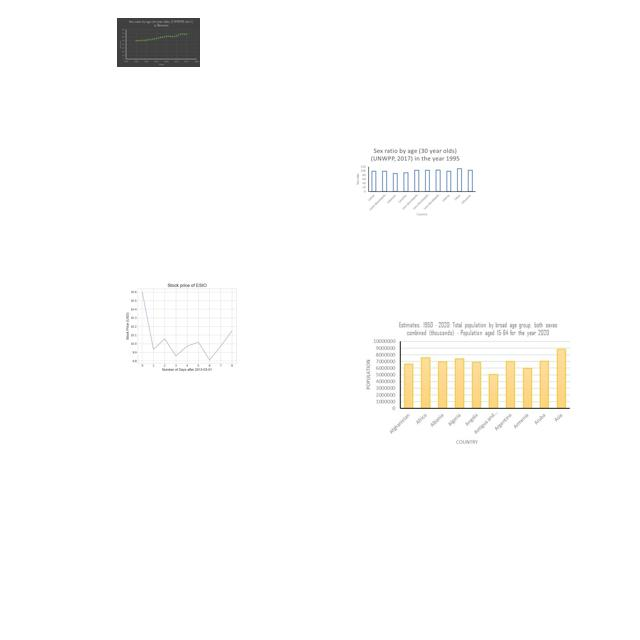Graph: (361, 318, 573, 445), (121, 277, 250, 374), (354, 146, 477, 217), (117, 18, 200, 67)
